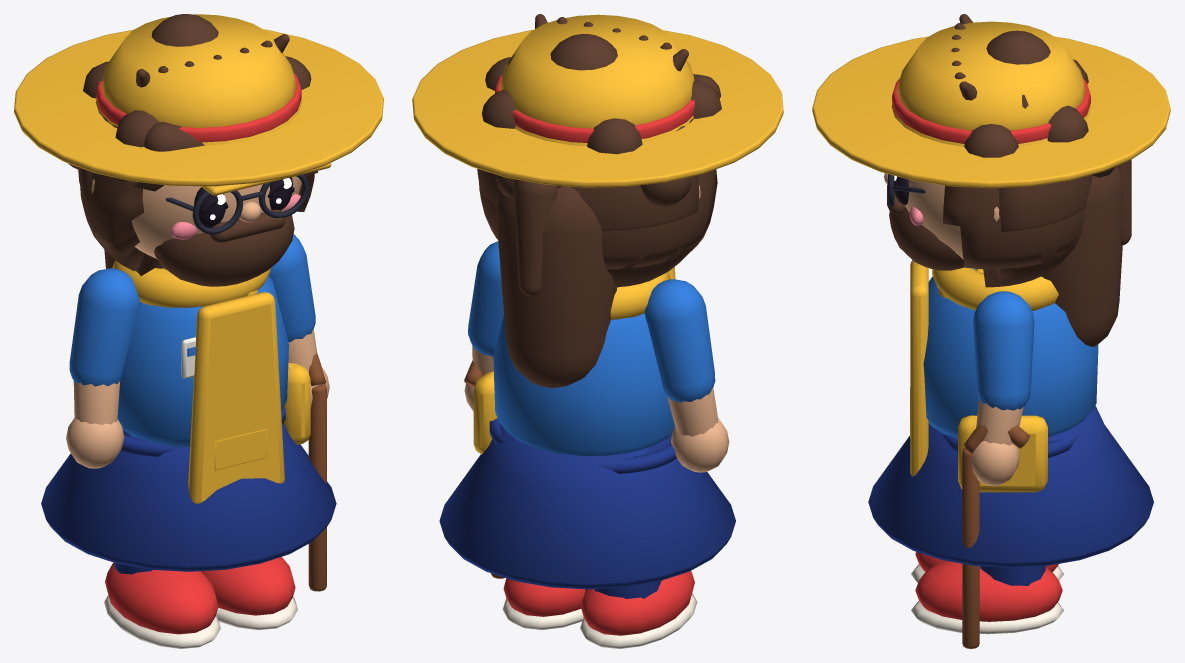
File: elder.glb
The picture shows the model from 3 angles, left to right: view 1: azimuth 30°, elevation 25°; view 2: azimuth 150°, elevation 25°; view 3: azimuth 270°, elevation 25°; orthographic projection. The views are drawn at different scales.
Visible parts, largest first — view 1: Acc_sunhat_Accent, Acc_skirt_Bottom, Acc_apron_Accent, Body_Top, Acc_beard_Hair, ArmL_Top, LegL_Shoes, Head_Skin, ArmL_Skin, LegR_Shoes, Acc_scarf_Accent, ArmR_Top (+17 smaller); view 2: Acc_sunhat_Accent, Acc_skirt_Bottom, Hair_long_Hair, Body_Top, Hair_curls_Hair, ArmL_Top, LegL_Shoes, ArmL_Skin, Hair_bob_Hair, Hair_pony_Hair, ArmR_Top, Acc_sunhat_Satin (+10 smaller); view 3: Acc_sunhat_Accent, Acc_skirt_Bottom, Body_Top, Hair_long_Hair, Hair_curls_Hair, ArmR_Top, LegR_Shoes, Hair_bob_Hair, Acc_cane_Gloss, Acc_apron_Accent, Acc_bag_Accent, ArmR_Skin (+10 smaller).
Boxes of the visible parts, x1,y1,x2,y2 form: Acc_sunhat_Accent: (14,14,383,186); Acc_skirt_Bottom: (41,422,336,571); Acc_apron_Accent: (188,292,284,503); Body_Top: (117,276,288,447); Acc_beard_Hair: (154,209,294,286); ArmL_Top: (69,268,139,386); LegL_Shoes: (105,562,218,634); Head_Skin: (91,176,301,258); ArmL_Skin: (66,381,124,468); LegR_Shoes: (200,557,295,615); Acc_scarf_Accent: (112,260,270,307); ArmR_Top: (268,234,315,341); Acc_sunhat_Accent: (412,14,783,187); Acc_skirt_Bottom: (439,424,735,589); Hair_long_Hair: (479,169,717,388); Body_Top: (493,313,674,455); Hair_curls_Hair: (477,54,721,230); ArmL_Top: (644,279,715,402); LegL_Shoes: (581,571,694,635); ArmL_Skin: (667,388,729,472); Hair_bob_Hair: (487,169,716,269); Hair_pony_Hair: (513,179,561,296); ArmR_Top: (468,241,503,356); Acc_sunhat_Satin: (495,74,694,142); Acc_sunhat_Accent: (812,21,1170,188); Acc_skirt_Bottom: (868,405,1153,567); Body_Top: (923,268,1098,438); Hair_long_Hair: (943,167,1123,346); Hair_curls_Hair: (964,59,1115,232); ArmR_Top: (973,291,1034,410); LegR_Shoes: (915,561,1062,621); Hair_bob_Hair: (944,185,1085,269); Acc_cane_Gloss: (962,424,1029,648); Acc_apron_Accent: (910,260,983,476); Acc_bag_Accent: (958,415,1047,492); ArmR_Skin: (971,399,1023,486).
Size of the model in its own units: 0.875 by 1.54 by 0.875.
